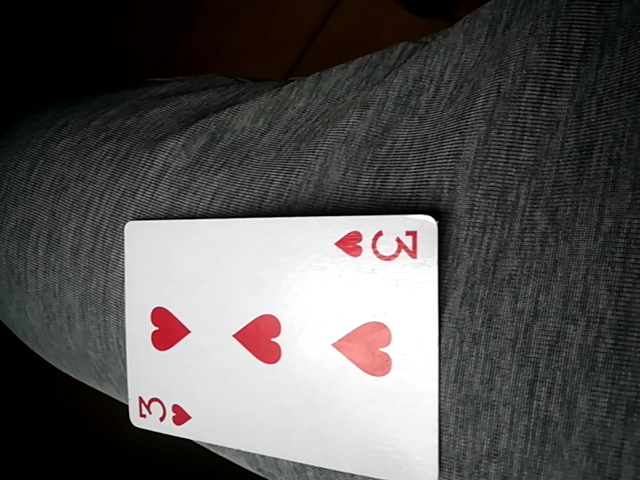hx 3: (122, 211, 444, 477)
